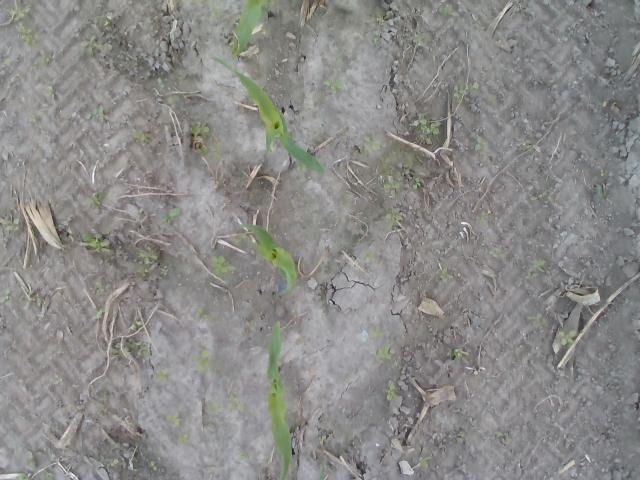Maize: (211, 56, 326, 175), (265, 319, 293, 480), (240, 223, 301, 295), (229, 0, 269, 55)
Weeds: (8, 5, 40, 48), (134, 248, 168, 280), (416, 111, 441, 145), (112, 338, 152, 358), (82, 232, 112, 253), (448, 80, 481, 98), (591, 174, 609, 207), (376, 344, 400, 368), (80, 32, 104, 56), (191, 350, 216, 373), (210, 255, 236, 274), (85, 103, 108, 121), (160, 206, 182, 224), (559, 326, 577, 346), (324, 79, 344, 97), (193, 305, 214, 321), (190, 120, 210, 136), (364, 134, 384, 150), (438, 3, 460, 17), (400, 151, 418, 168), (210, 136, 222, 161), (384, 208, 402, 224), (206, 400, 224, 416), (175, 429, 192, 445), (86, 191, 103, 207), (416, 456, 432, 472), (473, 135, 488, 152), (133, 130, 151, 144), (382, 175, 400, 189), (526, 313, 544, 327), (383, 382, 397, 400), (165, 414, 182, 428), (0, 286, 12, 305), (228, 394, 242, 410), (153, 369, 169, 383), (96, 14, 112, 28), (370, 30, 382, 48), (24, 450, 36, 466), (208, 0, 220, 16), (194, 144, 208, 157), (234, 448, 248, 461), (530, 191, 548, 201), (368, 326, 383, 338), (439, 265, 450, 281), (415, 31, 425, 48), (32, 54, 49, 64), (361, 249, 374, 262), (156, 76, 170, 88), (528, 260, 544, 270), (450, 348, 462, 361), (520, 140, 534, 151), (8, 223, 22, 234), (480, 210, 490, 225), (296, 162, 306, 176), (128, 320, 142, 330), (94, 280, 104, 294), (231, 236, 248, 244), (318, 435, 330, 446), (48, 80, 56, 96), (15, 472, 30, 480), (111, 458, 123, 468), (319, 463, 326, 480), (486, 95, 497, 105), (376, 13, 386, 24), (54, 374, 64, 385), (99, 406, 108, 418), (489, 249, 501, 258), (100, 390, 110, 400), (148, 461, 156, 472), (2, 57, 14, 64), (247, 240, 257, 248), (414, 179, 421, 188), (246, 63, 256, 69), (495, 432, 505, 438), (457, 430, 464, 438), (31, 114, 38, 122)
